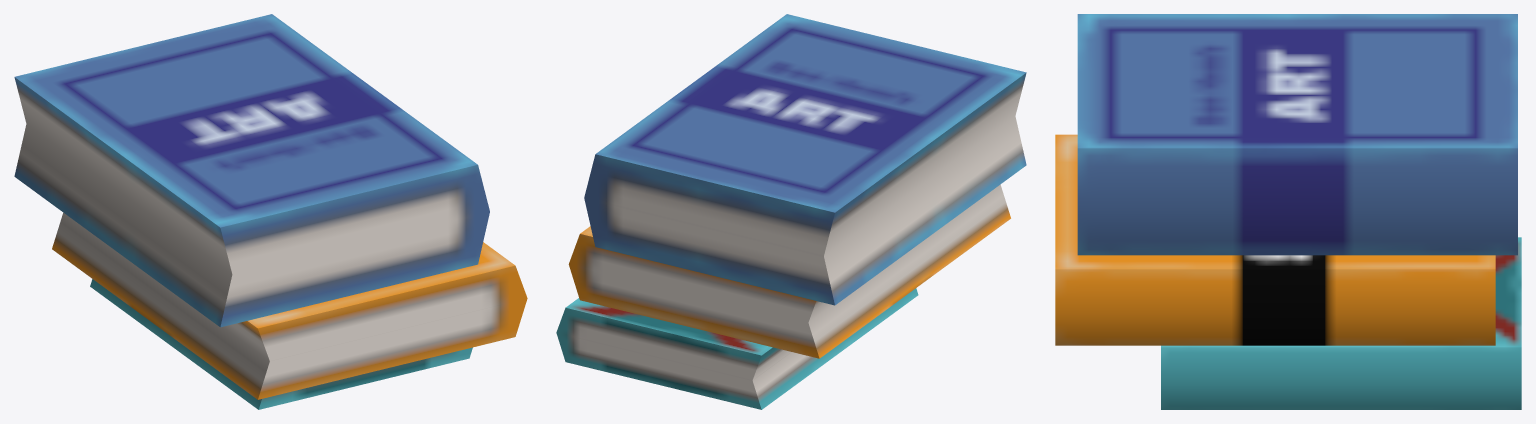
The model's file is TNP0110012.FBX.
3 views of the same model, side by side, from view 1: azimuth 30°, elevation 25°; view 2: azimuth 150°, elevation 25°; view 3: azimuth 270°, elevation 25° (orthographic). The views are drawn at different scales.
Parts seen in each view (by area): view 1: smTNP0110012; view 2: smTNP0110012; view 3: smTNP0110012.
Part boxes in pixels (x1,y1,x2,y2): smTNP0110012: (14, 14, 527, 409); smTNP0110012: (556, 14, 1026, 409); smTNP0110012: (1055, 14, 1521, 409).
Size of the model in its own units: 0.2535 by 0.1867 by 0.3212.
Materials: 1 (1 with a texture image).
